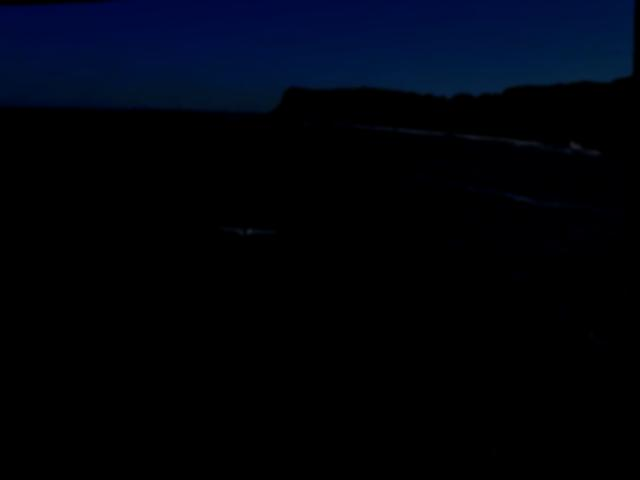uav: (217, 220, 283, 242)
